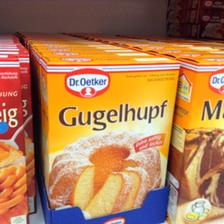Kuchen: (38, 54, 178, 218)
